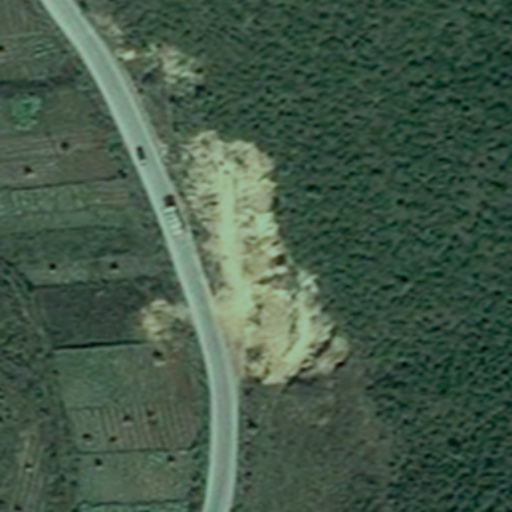landslide: (178, 129, 351, 386)
